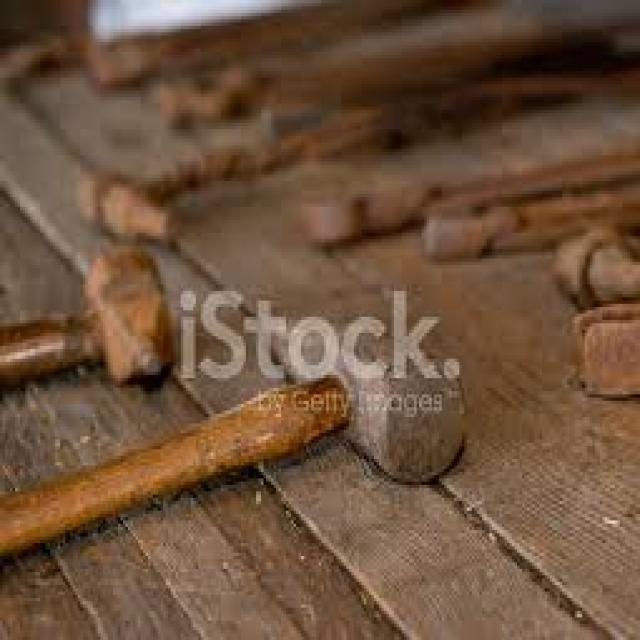hammer: (0, 310, 479, 572), (0, 241, 188, 393)
